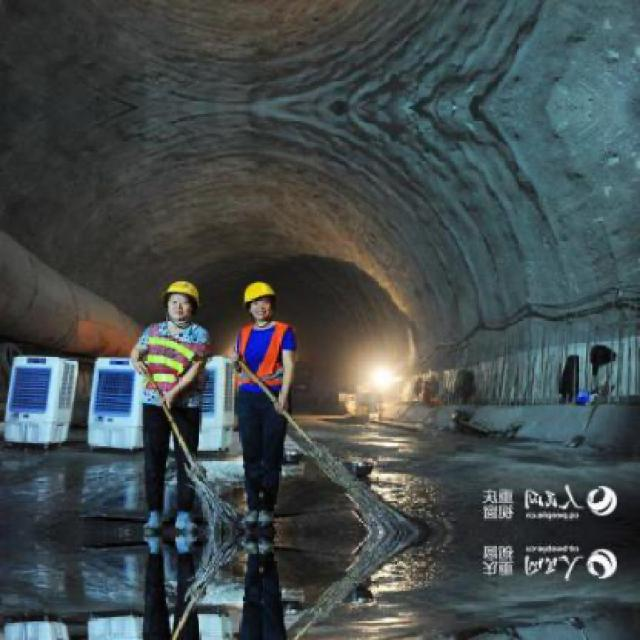helmet: (160, 272, 205, 323), (240, 276, 278, 322)
